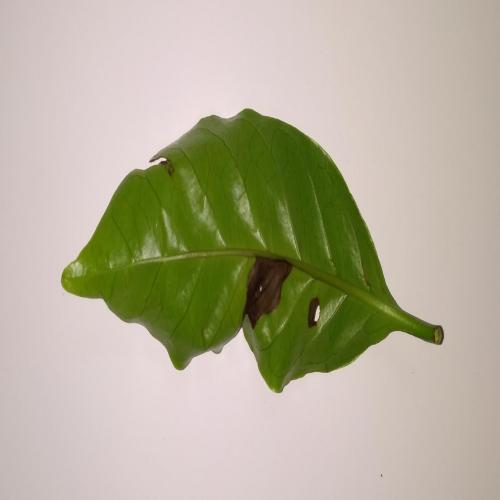miner: (242, 255, 293, 327)
